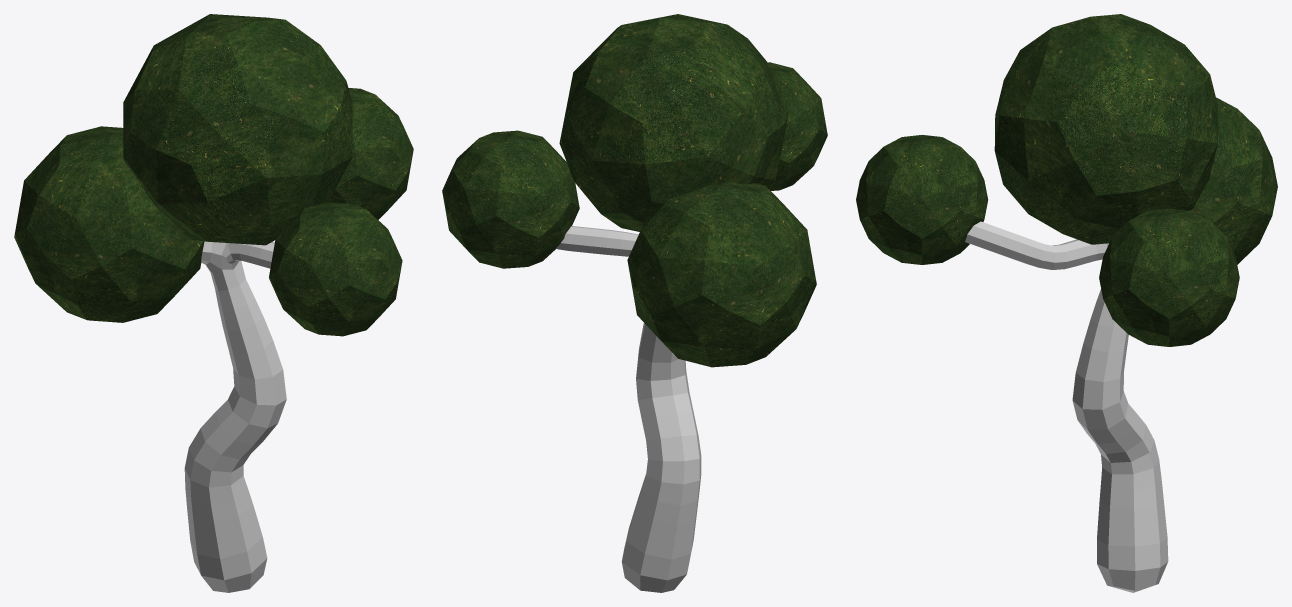
File: Tree.obj
The picture shows the model from 3 angles, left to right: view 1: azimuth 30°, elevation 25°; view 2: azimuth 150°, elevation 25°; view 3: azimuth 270°, elevation 25°; orthographic projection. The views are drawn at different scales.
Visible parts, largest first — view 1: Icosphere.003, Icosphere.002, Cube, Icosphere, Leaves; view 2: Icosphere.003, Icosphere.002, Cube, Leaves, Icosphere; view 3: Icosphere.003, Cube, Leaves, Icosphere, Icosphere.002.
Boxes of the visible parts, left/top/right/bottom form: Icosphere.003: left=123, top=14, right=352, bottom=245; Icosphere.002: left=14, top=126, right=204, bottom=322; Cube: left=184, top=241, right=286, bottom=592; Icosphere: left=269, top=202, right=402, bottom=336; Leaves: left=328, top=88, right=413, bottom=219; Icosphere.003: left=559, top=14, right=789, bottom=231; Icosphere.002: left=627, top=182, right=816, bottom=367; Cube: left=556, top=226, right=701, bottom=592; Leaves: left=442, top=130, right=579, bottom=268; Icosphere: left=768, top=62, right=827, bottom=190; Icosphere.003: left=994, top=14, right=1218, bottom=244; Cube: left=965, top=221, right=1168, bottom=592; Leaves: left=1099, top=208, right=1239, bottom=346; Icosphere: left=856, top=135, right=988, bottom=264; Icosphere.002: left=1190, top=97, right=1277, bottom=264.
Bounding box in the file's own units: 6.25 × 9.27 × 6.31.
